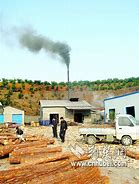smoke: (19, 27, 71, 68)
